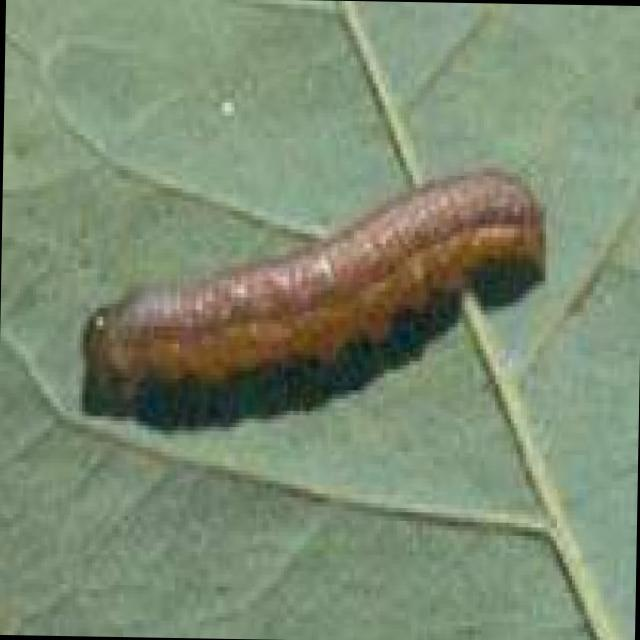Plaga: (73, 136, 568, 438)
